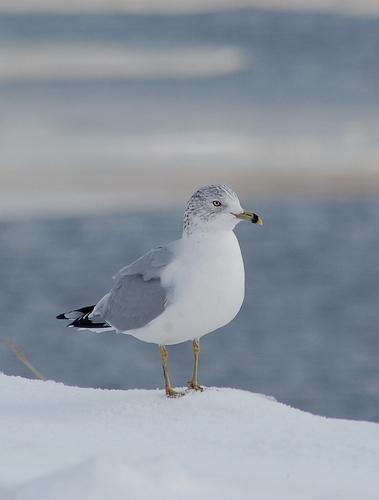bird: (54, 176, 270, 395)
